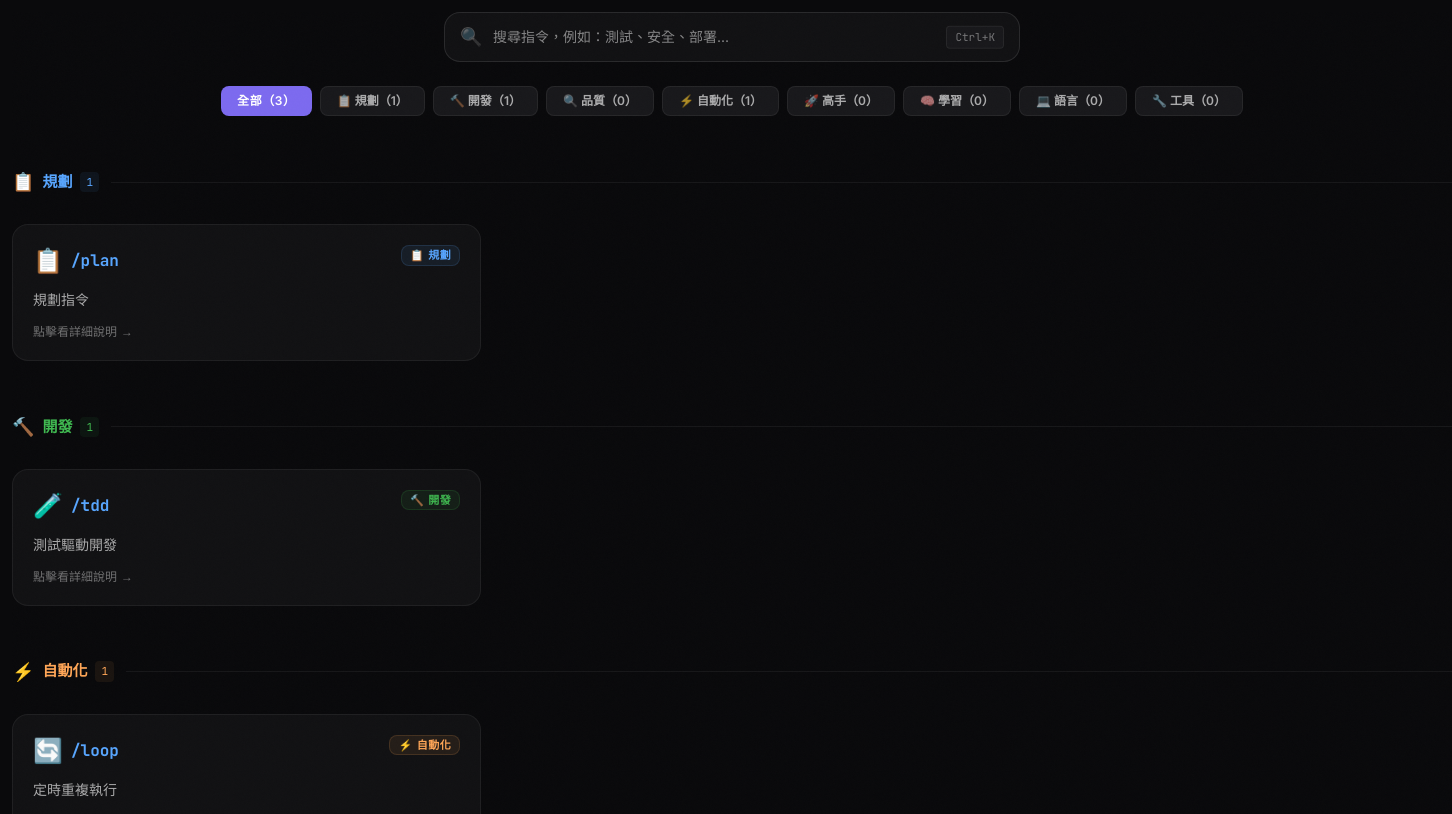
Test case: SearchFilter › filters commands by category button
Click the button "🔨 開發（1）".
click(485, 101)  # box left=433, top=86, right=538, bottom=116
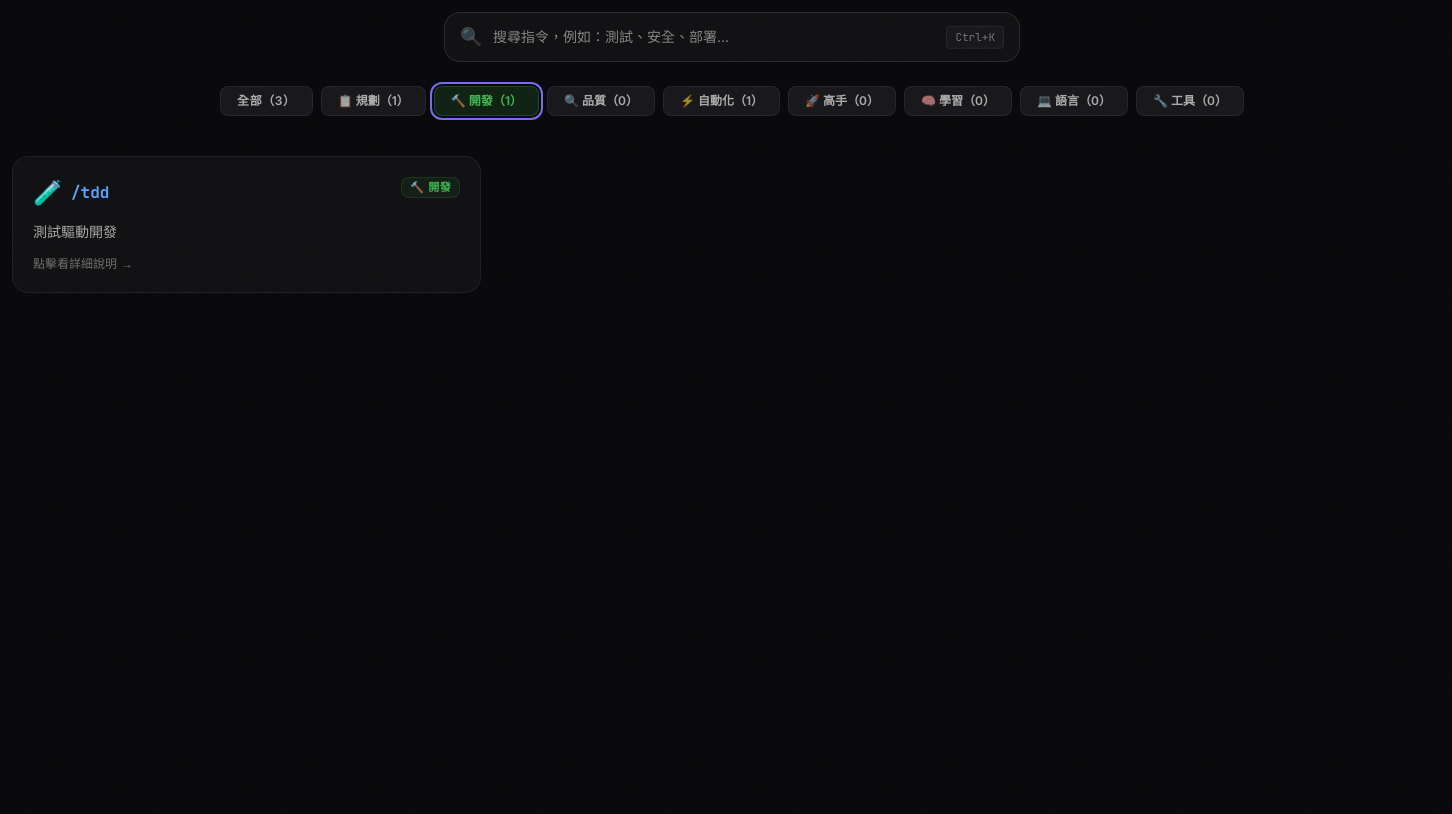
Check: the text "/tdd" is shown, box left=71, top=181, right=109, bottom=205
Check: the link "/plan" is gone
Check: the link "/loop" is gone
